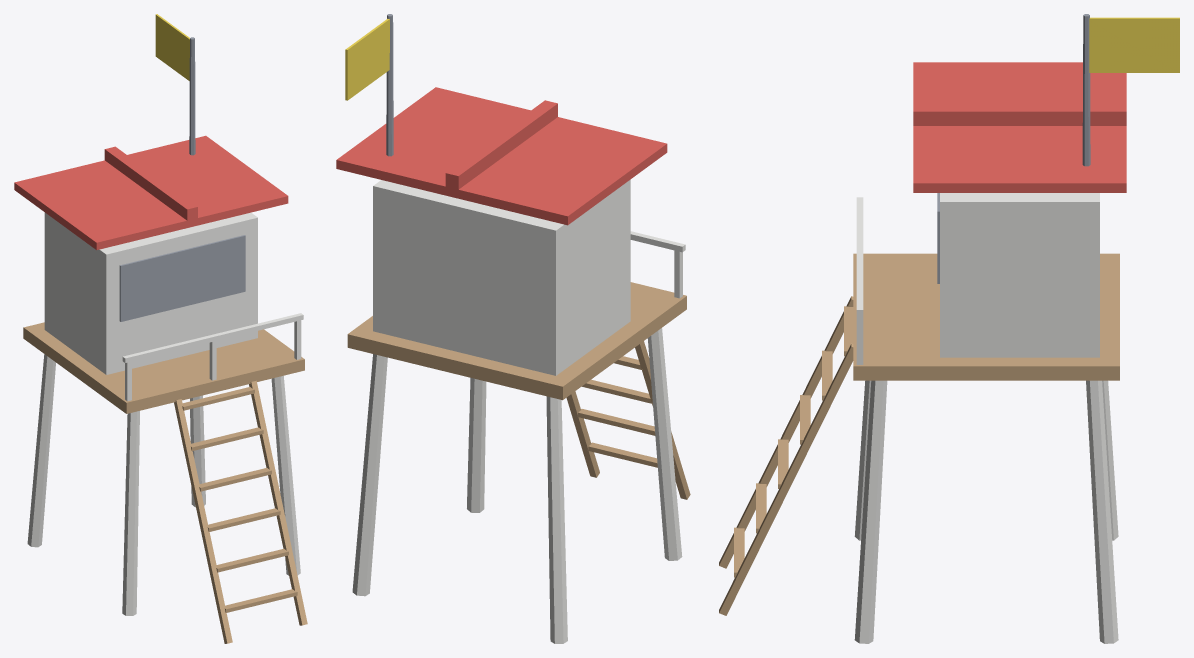
The model's file is torre_salva_vidas.glb.
The picture shows the model from 3 angles, left to right: view 1: azimuth 30°, elevation 25°; view 2: azimuth 150°, elevation 25°; view 3: azimuth 270°, elevation 25°; orthographic projection. The views are drawn at different scales.
Visible parts, largest first — view 1: torre_salva_vidas; view 2: torre_salva_vidas; view 3: torre_salva_vidas.
Boxes of the visible parts, bbox=[...] form: torre_salva_vidas: bbox=[14, 14, 307, 643]; torre_salva_vidas: bbox=[336, 14, 690, 643]; torre_salva_vidas: bbox=[719, 14, 1179, 643].
Bounding box in the file's own units: 2.15 × 5.12 × 3.46.
